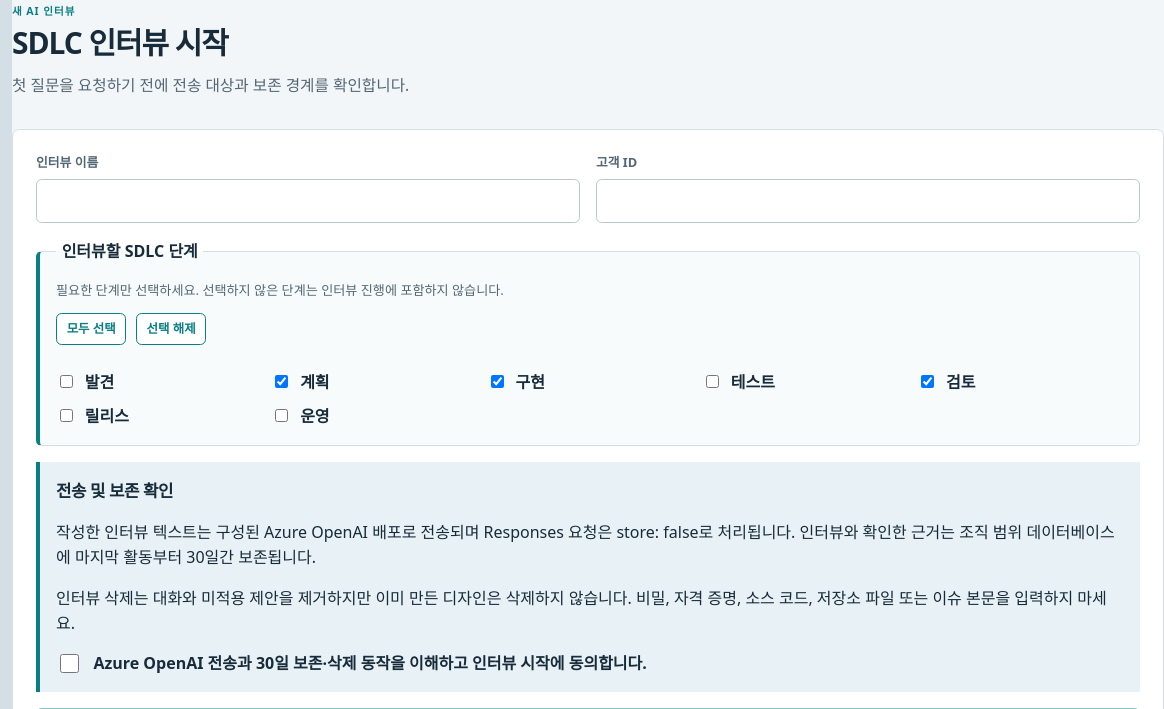
Test: InterviewPageContent lifecycle › shows interview API failures in Korean instead of exposing English server copy
Type "범위 확인" into the field labelled "인터뷰 이름".
click(308, 202); type("범위 확인")  # box [36,180,580,224]
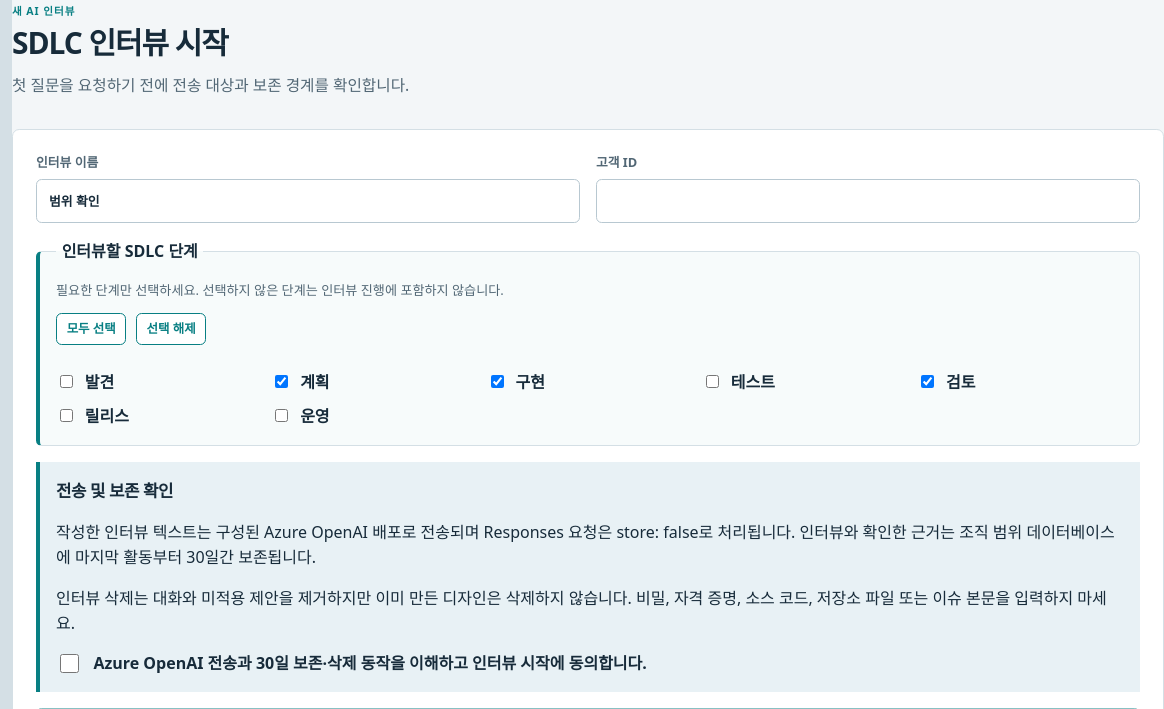
Type "acme" into the field labelled "고객 ID".
click(868, 202); type("acme")  # box [596,180,1140,224]
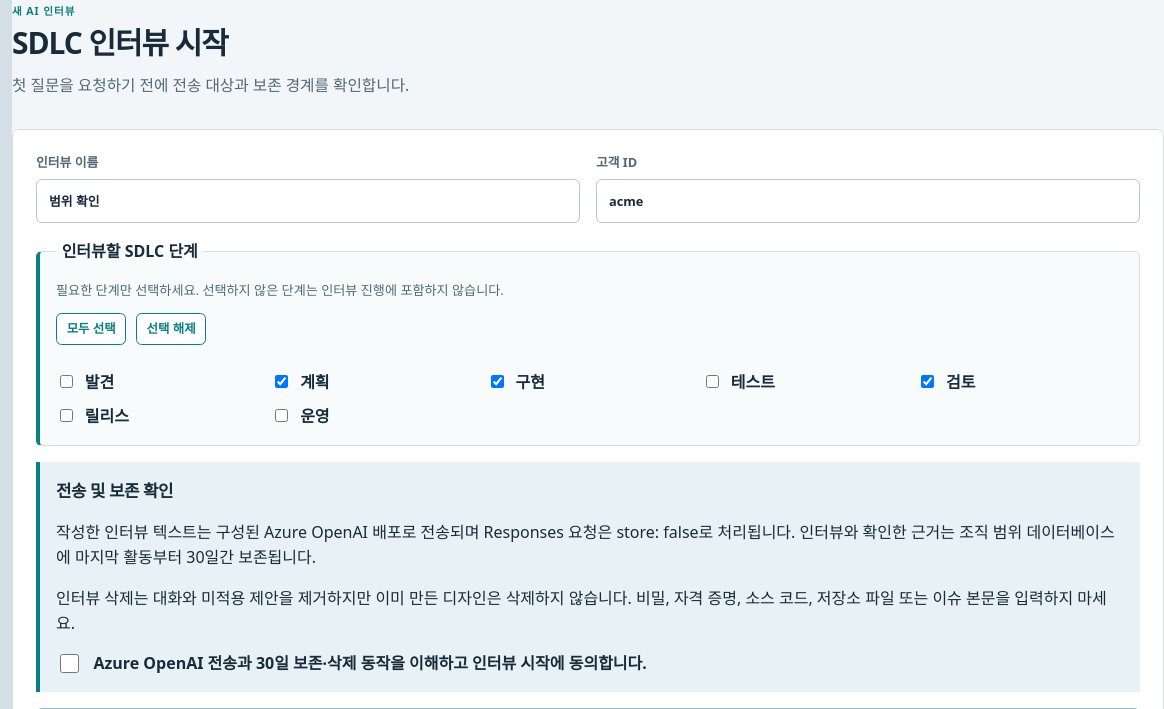
Click the checkbox labelled "Azure OpenAI 전송과 30일 보존·삭제 동작을 이해하고 인터뷰 시작에 동의합니다.".
click(70, 663)  # box [60,654,79,673]
(page scrolled)
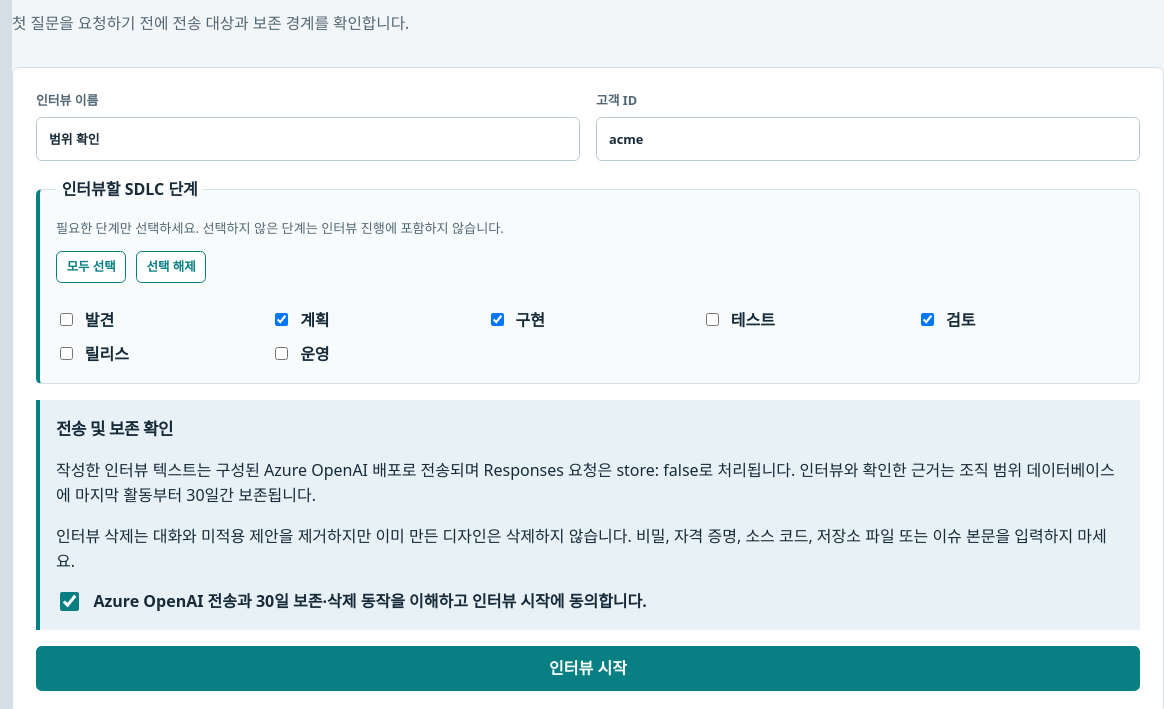
Click the button "인터뷰 시작".
click(588, 668)  # box [36,646,1140,690]
(page scrolled)
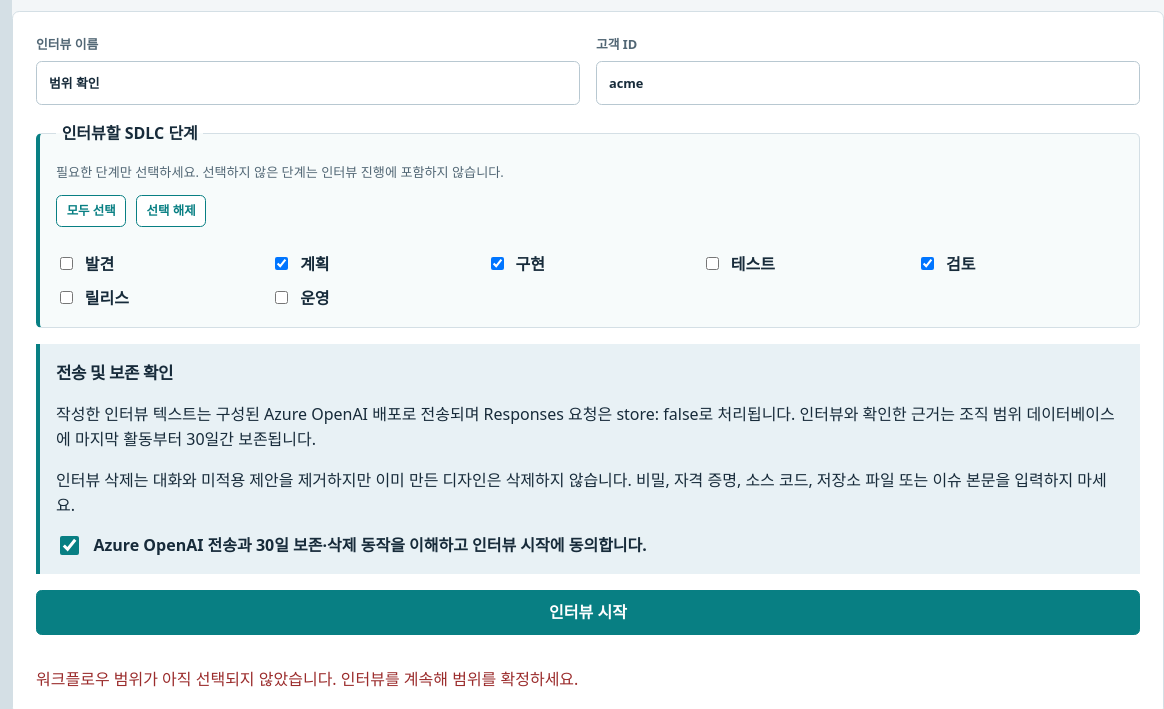
Expected: the message does not show "workflow scope has not been selected", [36,668,578,690]
Now the message shows "워크플로우 범위가 아직 선택되지 않았습니다.", box [36,668,578,690]
